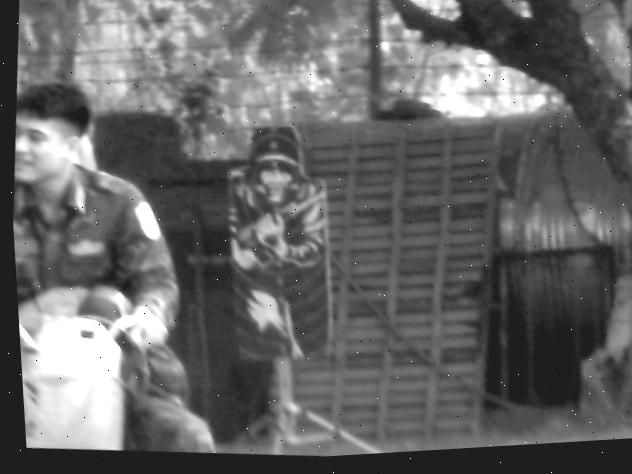chan: (209, 359, 383, 474)
